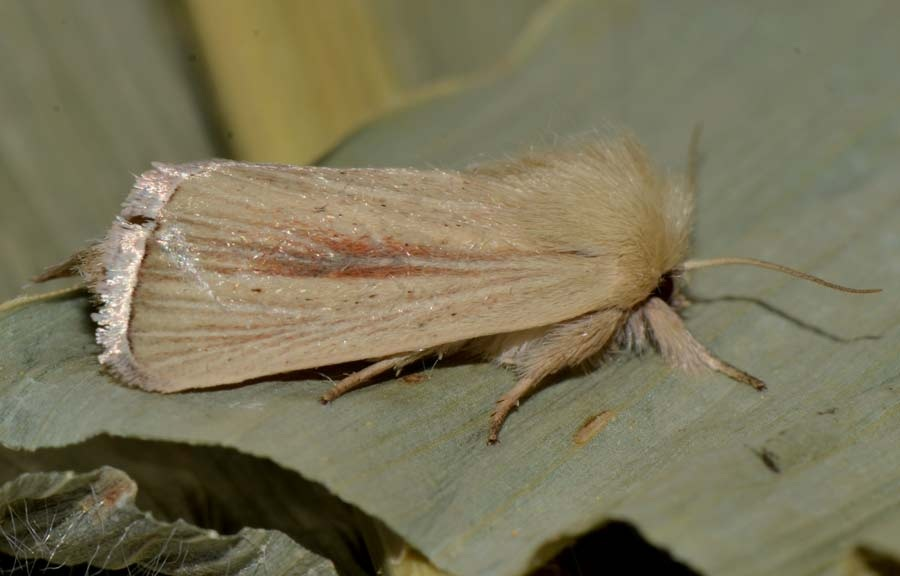Noctuidae: (31, 132, 885, 441)
